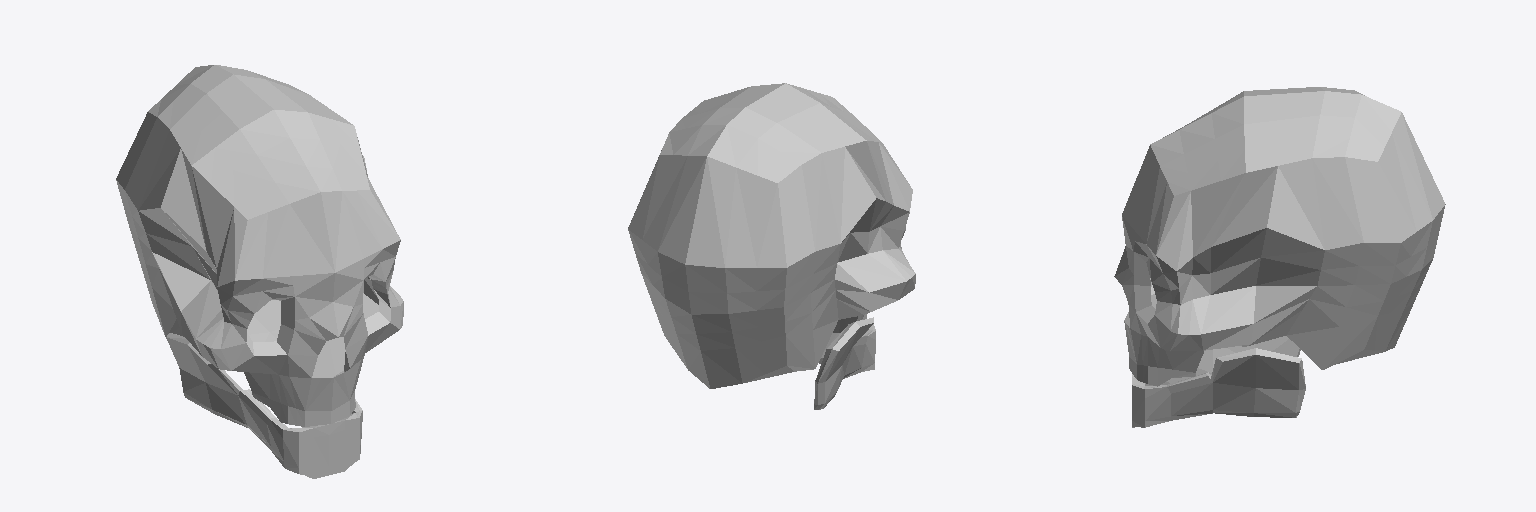
Rendered from skull.obj.
The picture shows the model from 3 angles: view 1: azimuth 30°, elevation 25°; view 2: azimuth 150°, elevation 25°; view 3: azimuth 270°, elevation 25°; orthographic projection.
Parts seen in each view (by area): view 1: pCube3, pCube5; view 2: pCube3, pCube5; view 3: pCube3, pCube5.
Part boxes in pixels (x1,y1,x2,y2): pCube3: (116,65,403,426); pCube5: (166,333,362,478); pCube3: (628,83,915,388); pCube5: (814,317,875,409); pCube3: (1114,87,1445,386); pCube5: (1132,336,1305,427).
Bounding box in the file's own units: 17.82 × 27.53 × 25.03.